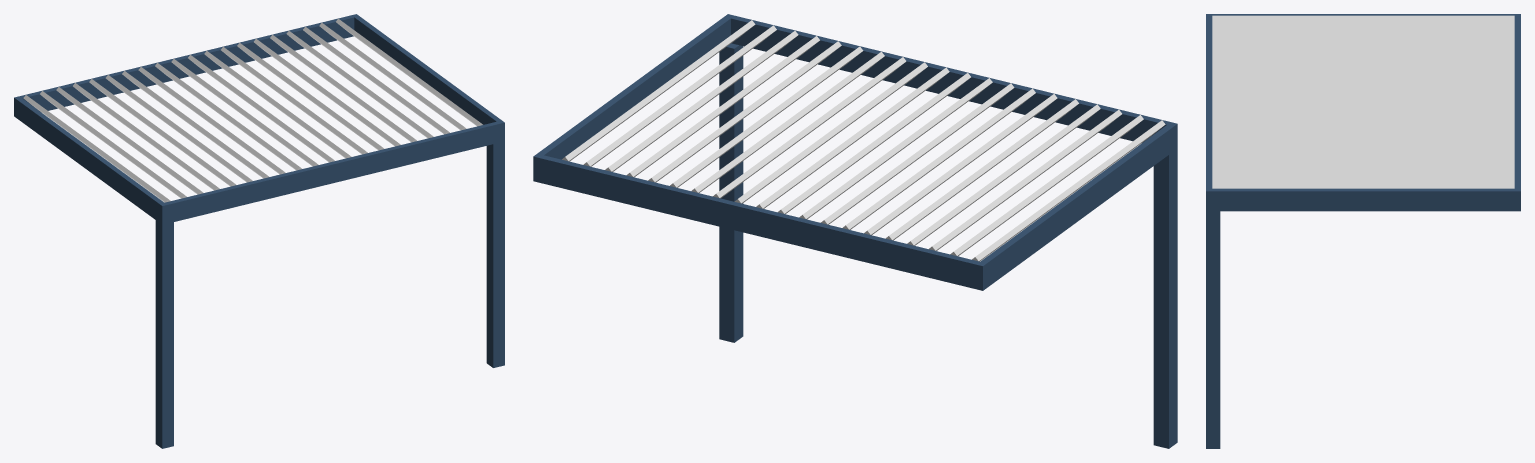
The picture shows the model from 3 angles, left to right: view 1: azimuth 30°, elevation 25°; view 2: azimuth 150°, elevation 25°; view 3: azimuth 270°, elevation 25°; orthographic projection. The views are drawn at different scales.
Visible parts, largest first — view 1: pL-0-1, pL-0-0, poteau-0-0, poteau-0-1, pl-0-0-0, pl-0-0-1, lame-0-0-0-0, lame-0-0-0-7, lame-0-0-0-2, lame-0-0-0-5, lame-0-0-0-12, lame-0-0-0-11 (+14 smaller); view 2: pL-0-0, pL-0-1, poteau-0-0, pl-0-0-0, poteau-0-1, pl-0-0-1, lame-0-0-0-8, lame-0-0-0-11, lame-0-0-0-12, lame-0-0-0-14, lame-0-0-0-18, lame-0-0-0-1 (+14 smaller); view 3: pl-0-0-1, lame-0-0-0-19, poteau-0-1, lame-0-0-0-4, lame-0-0-0-6, lame-0-0-0-8, lame-0-0-0-10, lame-0-0-0-12, lame-0-0-0-14, lame-0-0-0-16, lame-0-0-0-18, lame-0-0-0-0 (+13 smaller).
Boxes of the visible parts, box(x1,y1,x2,y2) form: pL-0-1: box(159, 120, 504, 224); pL-0-0: box(14, 14, 359, 118); poteau-0-0: box(155, 220, 173, 448); poteau-0-1: box(486, 141, 504, 367); pl-0-0-0: box(17, 98, 163, 222); pl-0-0-1: box(354, 16, 501, 124); lame-0-0-0-0: box(23, 95, 170, 202); lame-0-0-0-7: box(138, 67, 285, 174); lame-0-0-0-2: box(56, 87, 203, 194); lame-0-0-0-5: box(105, 75, 252, 182); lame-0-0-0-12: box(221, 46, 367, 154); lame-0-0-0-11: box(204, 51, 351, 158); pL-0-0: box(533, 153, 986, 290); pL-0-1: box(724, 14, 1177, 150); poteau-0-0: box(1153, 149, 1177, 448); pl-0-0-0: box(980, 125, 1173, 287); poteau-0-1: box(719, 43, 743, 342); pl-0-0-1: box(537, 17, 730, 159); lame-0-0-0-8: box(799, 78, 992, 219); lame-0-0-0-11: box(734, 62, 927, 203); lame-0-0-0-12: box(713, 57, 906, 198); lame-0-0-0-14: box(670, 46, 863, 187); lame-0-0-0-18: box(583, 25, 776, 166); lame-0-0-0-1: box(950, 115, 1143, 256); pl-0-0-1: box(1212, 188, 1514, 211); lame-0-0-0-19: box(1212, 177, 1514, 188); poteau-0-1: box(1206, 211, 1220, 448); lame-0-0-0-4: box(1212, 49, 1514, 58); lame-0-0-0-6: box(1212, 66, 1514, 75); lame-0-0-0-8: box(1212, 83, 1514, 92); lame-0-0-0-10: box(1212, 100, 1514, 109); lame-0-0-0-12: box(1212, 117, 1514, 126); lame-0-0-0-14: box(1212, 134, 1514, 143); lame-0-0-0-16: box(1212, 151, 1514, 160); lame-0-0-0-18: box(1212, 168, 1514, 177); lame-0-0-0-0: box(1212, 15, 1514, 23).
Bounding box in the file's own units: 4 × 2.74 × 3.
